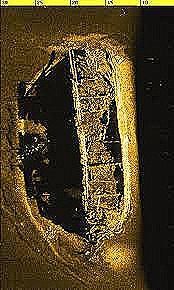ship: (67, 41, 132, 259)
